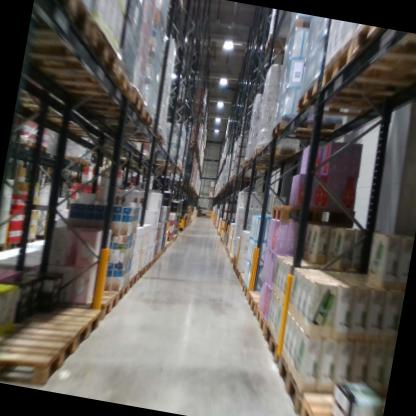pallet: (22, 10, 124, 91), (315, 35, 416, 108), (269, 350, 374, 416), (290, 73, 402, 132), (31, 45, 139, 106), (12, 292, 104, 356), (0, 317, 78, 390), (51, 70, 153, 124), (73, 89, 159, 133), (271, 194, 356, 235), (346, 25, 416, 74), (268, 112, 350, 153), (28, 0, 96, 45), (296, 383, 384, 416), (75, 283, 121, 324), (100, 123, 167, 151), (249, 139, 301, 171), (240, 153, 293, 178), (258, 318, 284, 367), (244, 286, 274, 317), (250, 302, 272, 340), (148, 153, 184, 171), (58, 149, 86, 166), (11, 133, 39, 150), (237, 271, 258, 291), (110, 281, 128, 304), (3, 234, 22, 253), (124, 269, 139, 293), (226, 173, 250, 186), (21, 231, 38, 249), (134, 262, 148, 281), (240, 279, 251, 301), (33, 141, 51, 153), (229, 261, 240, 278), (231, 251, 241, 267), (226, 252, 237, 265), (144, 259, 153, 271), (82, 159, 93, 168), (234, 269, 241, 281)
